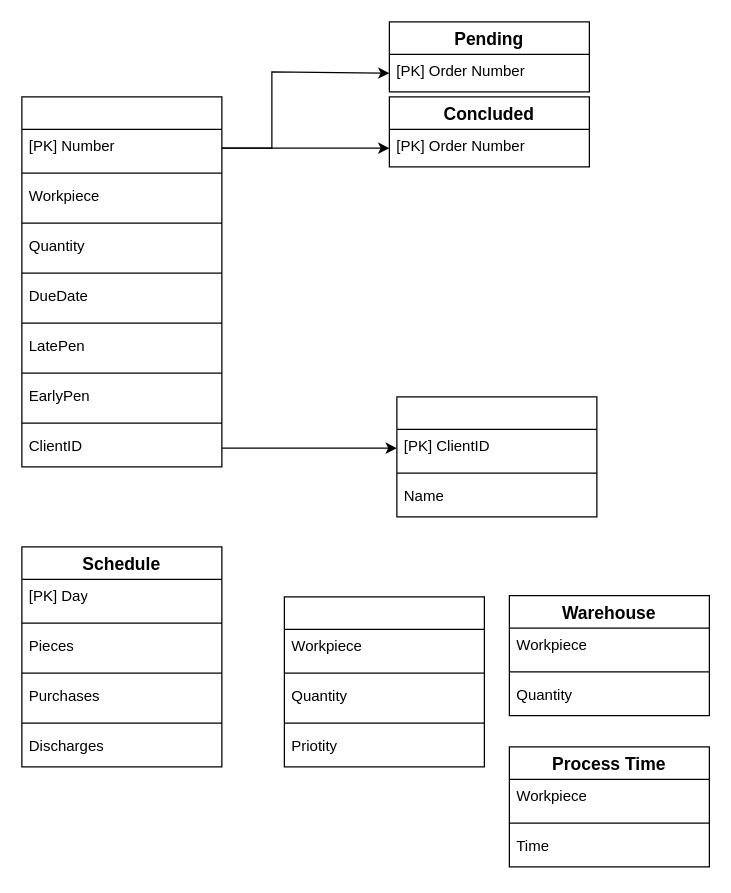
The diagram is 731 pixels wide and 893 high, and some of its shapes have lost their labels. The shapes that lost their labels are listed below. From the top down, each one's box as (x1, y1, x2, y2) in pixels, then its label:
(21, 96, 222, 467): Orders
(396, 396, 597, 517): Clients
(283, 596, 484, 767): Purchase List
